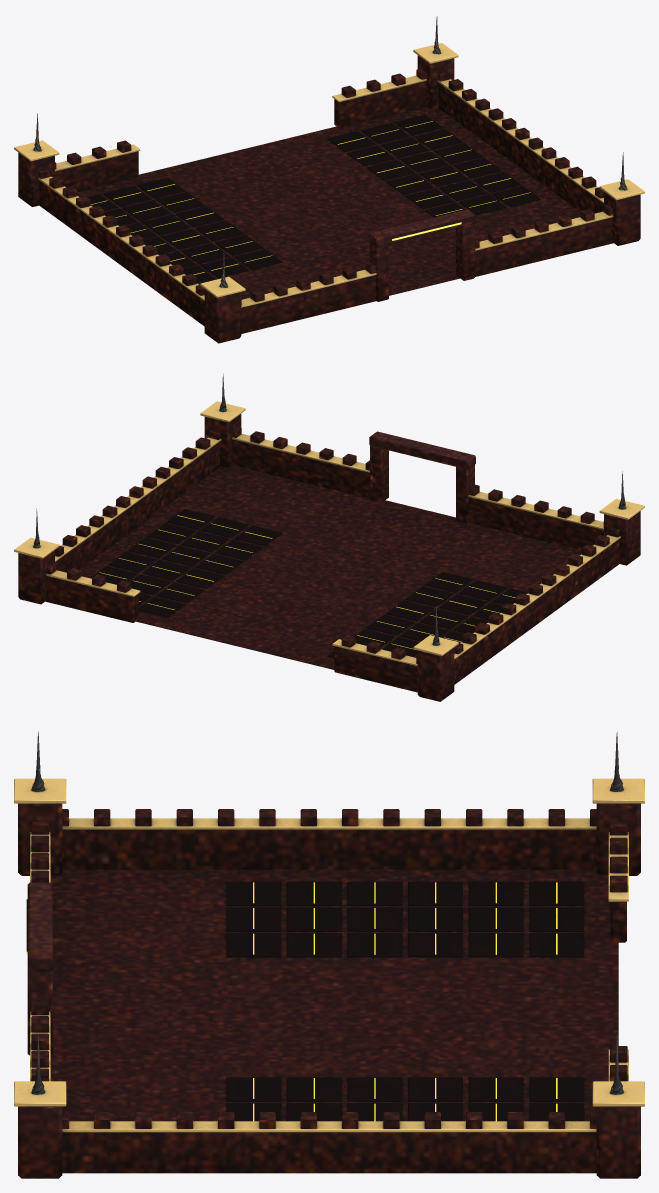
Rendered from base_fire.glb.
3 renders of one model, top to bottom at view 1: azimuth 30°, elevation 25°; view 2: azimuth 150°, elevation 25°; view 3: azimuth 270°, elevation 25°, orthographic. The views are drawn at different scales.
Visible parts, largest first — view 1: base_fire; view 2: base_fire; view 3: base_fire.
Part boxes in pixels (x1=…): base_fire: x1=14, y1=16, x2=644, y2=343; base_fire: x1=14, y1=373, x2=644, y2=701; base_fire: x1=14, y1=731, x2=644, y2=1178.
Bounding box in the file's own units: 55.8 × 11.05 × 45.8.
Materials: 5 (5 with a texture image).
